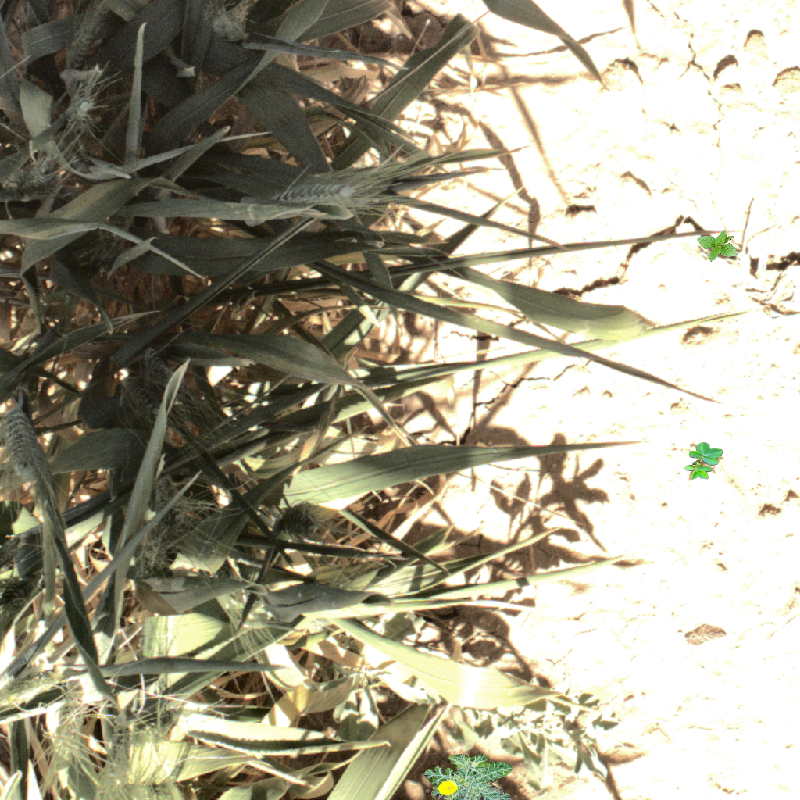spikelet: (1, 401, 42, 469), (46, 696, 86, 761), (1, 669, 68, 706), (278, 178, 356, 207), (65, 93, 96, 127)
weed: (424, 754, 514, 800), (696, 222, 743, 270), (684, 442, 723, 480)
